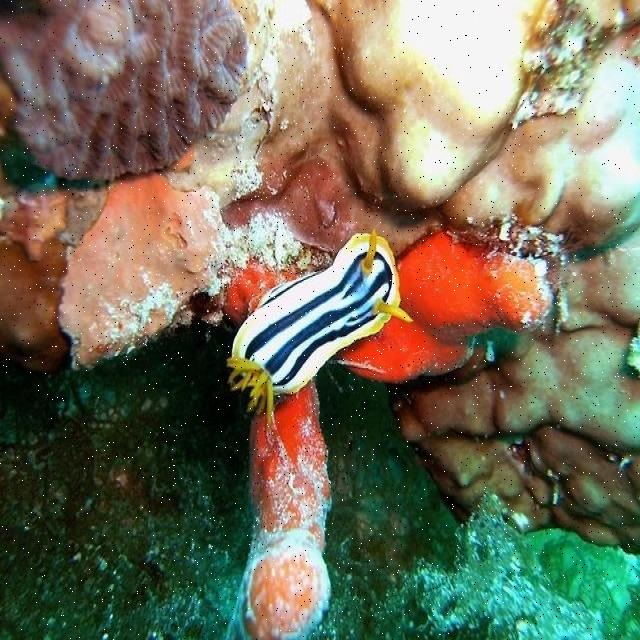reefs: (2, 2, 638, 555), (0, 2, 249, 181), (227, 229, 414, 426), (337, 228, 552, 384), (228, 381, 333, 639)
